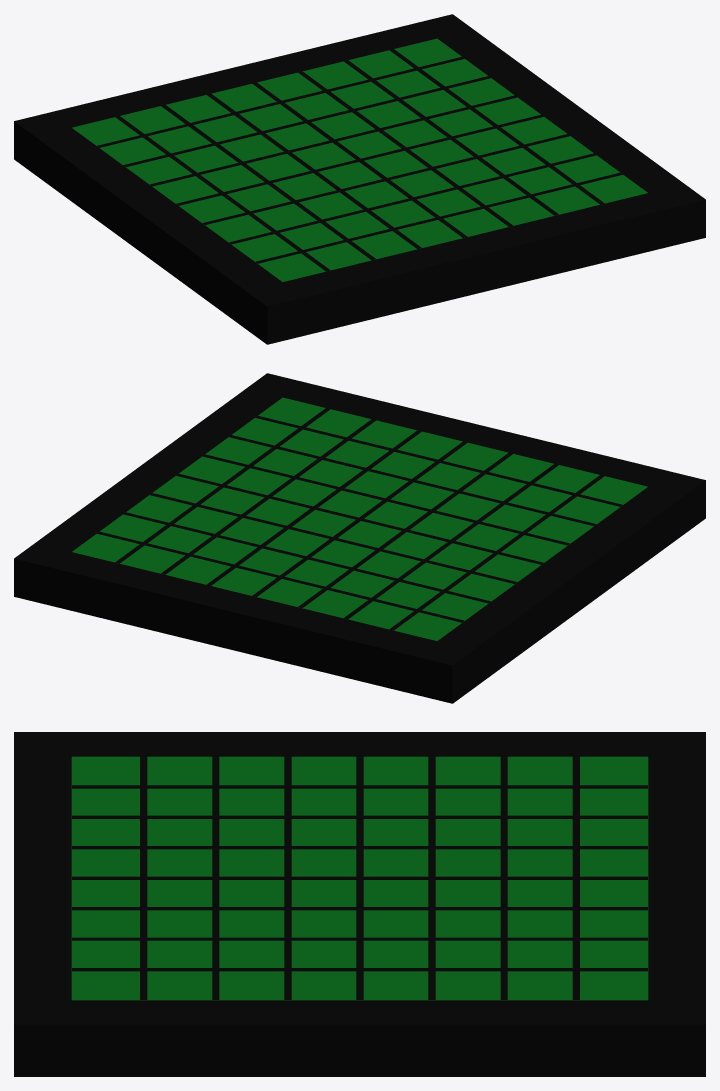
The model's file is Board.fbx.
The picture shows the model from 3 angles, top to bottom: view 1: azimuth 30°, elevation 25°; view 2: azimuth 150°, elevation 25°; view 3: azimuth 270°, elevation 25°; orthographic projection. The views are drawn at different scales.
Visible parts, largest first — view 1: オセロ盤; view 2: オセロ盤; view 3: オセロ盤.
Part boxes in pixels (x1,y1,x2,y2): オセロ盤: (14, 14, 705, 344); オセロ盤: (14, 373, 705, 703); オセロ盤: (14, 732, 705, 1076).
Bounding box in the file's own units: 24 × 2.01 × 24.
